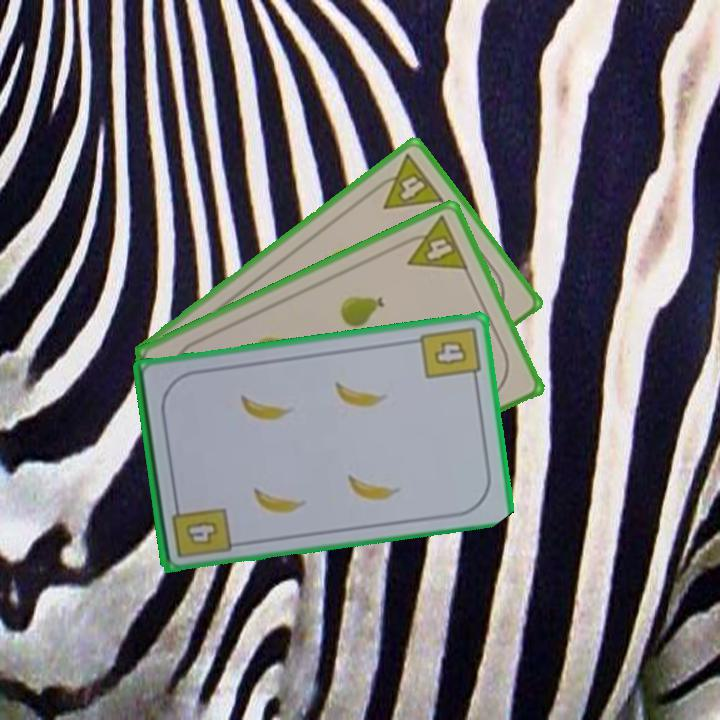4b: (167, 496, 234, 561), (416, 322, 483, 386)
4p: (367, 150, 447, 213), (395, 212, 471, 273)
